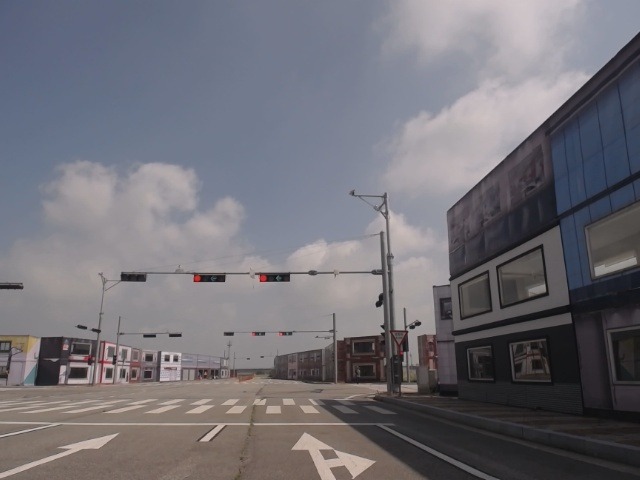left_green_4: (193, 274, 225, 283), (259, 274, 291, 282)
